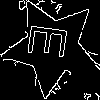E: (27, 22, 77, 62)
